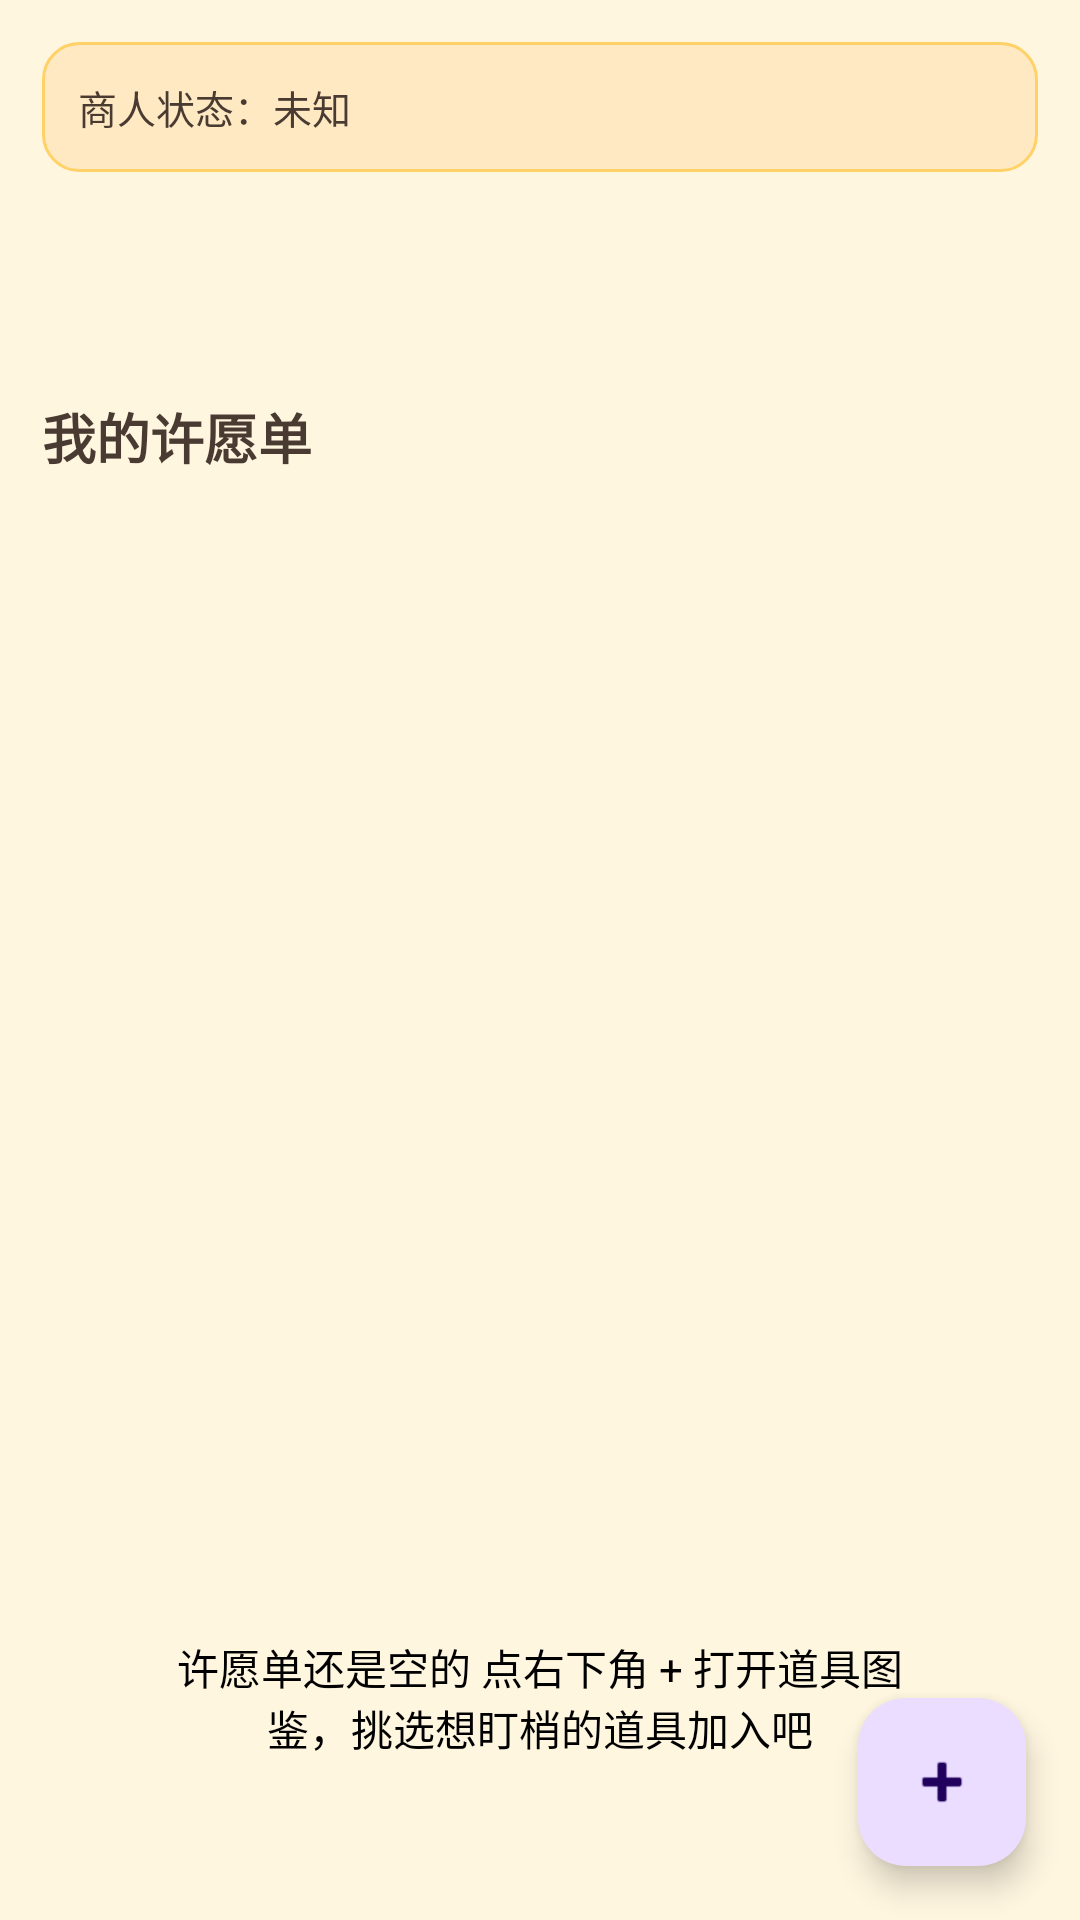

Named icons in this screenshot (1080 x 1920) and their centers, (x,y):
添加愿望: (942,1782)
